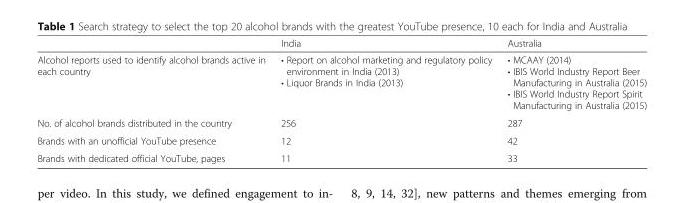table: (36, 37, 646, 163)
table column: (36, 37, 272, 163), (272, 37, 499, 163), (499, 37, 646, 163)
table column header: (36, 37, 646, 51)
table row: (36, 51, 646, 113), (36, 113, 646, 131), (36, 131, 646, 149), (36, 37, 646, 51), (36, 149, 646, 163)
